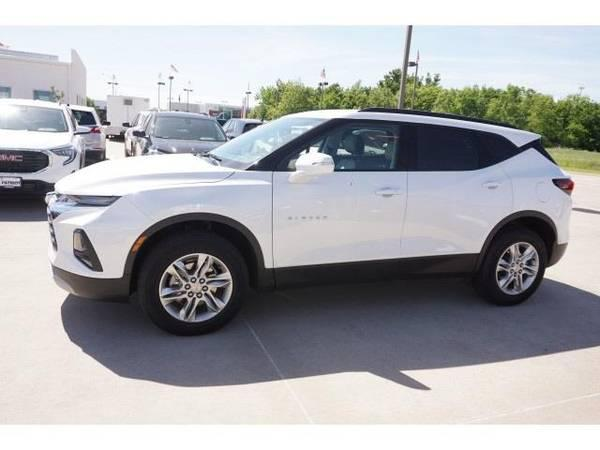Front_Bumper: (49, 195, 157, 298)
Front_Fender: (126, 170, 278, 288)
Front_Left_Door: (271, 172, 407, 282)
Front_Left_Window: (266, 121, 401, 172)
Front_Windshield: (202, 115, 318, 169)
Hood: (57, 151, 234, 195)
Left_Headlight: (56, 194, 121, 209)
Left_Taillight: (551, 177, 573, 197)
Rear_Bumper: (554, 193, 573, 265)
Rear_Fender: (503, 147, 567, 224)
Rear_Left_Door: (399, 162, 512, 271)
Rear_Left_Window: (400, 124, 517, 173)
Roof: (243, 107, 537, 170)
Wheel: (140, 235, 250, 339), (489, 235, 552, 315)
